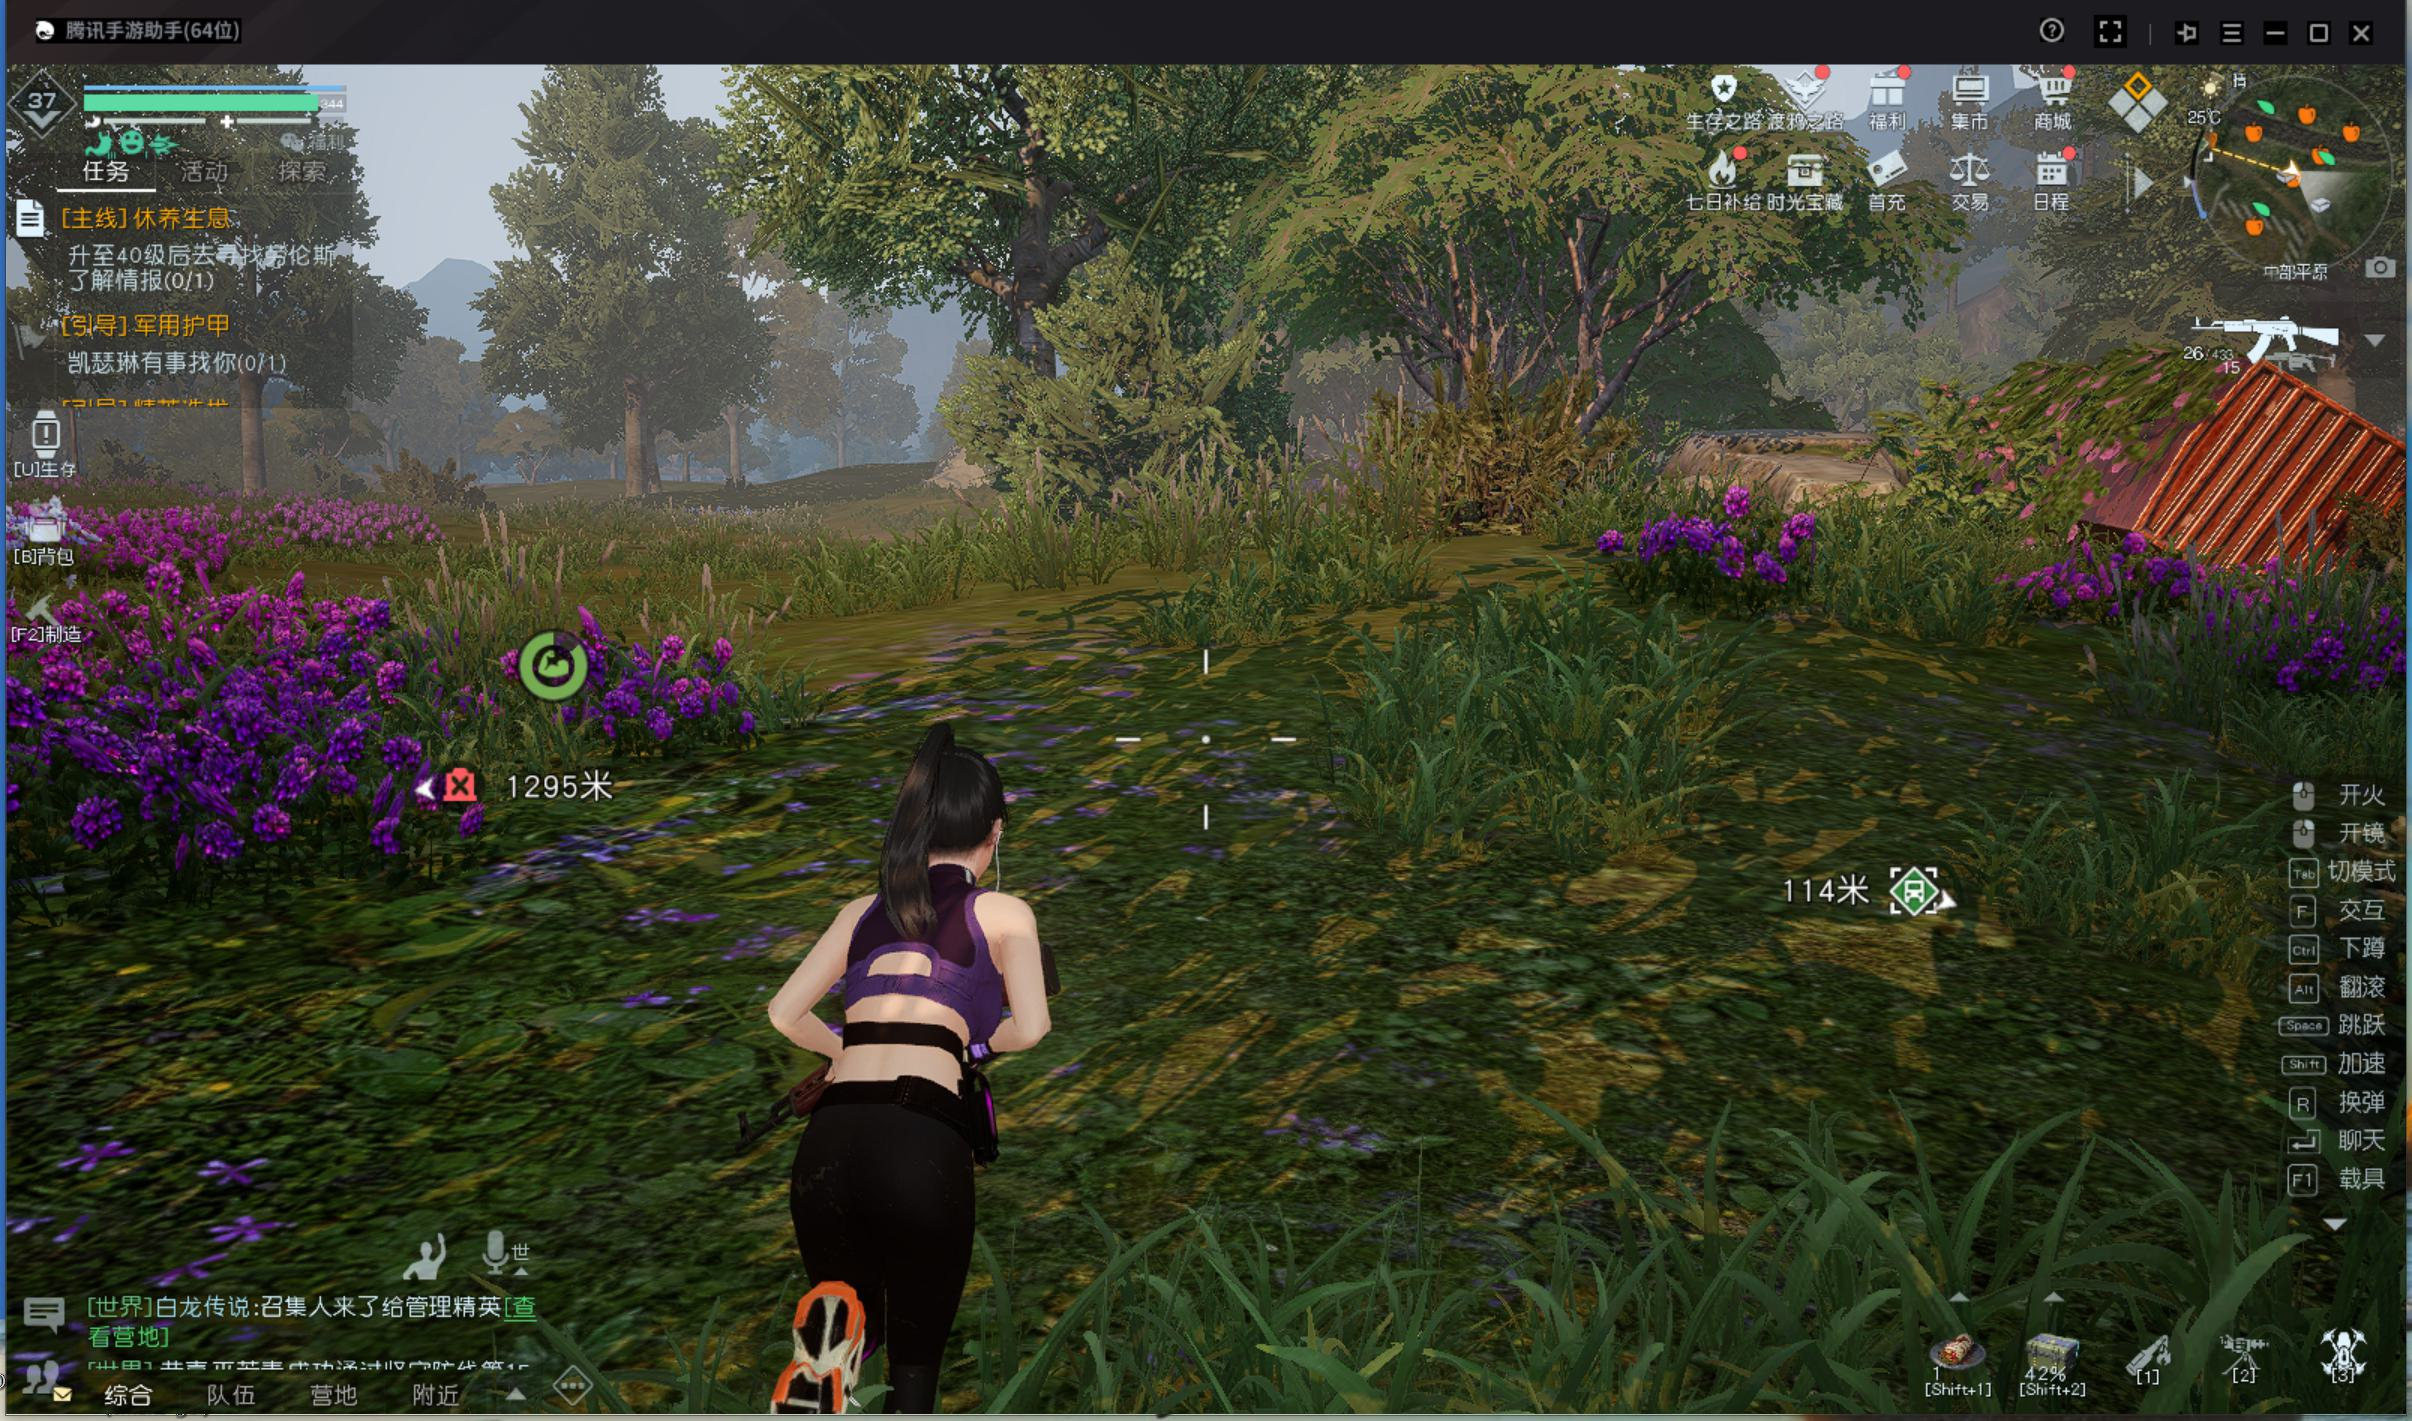tree: (230, 374, 277, 507), (611, 392, 660, 507), (721, 408, 753, 496)
